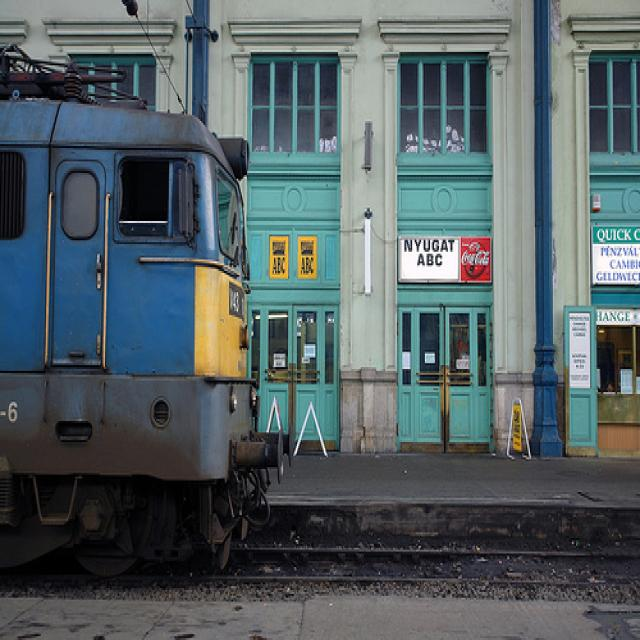train: (1, 28, 294, 585)
